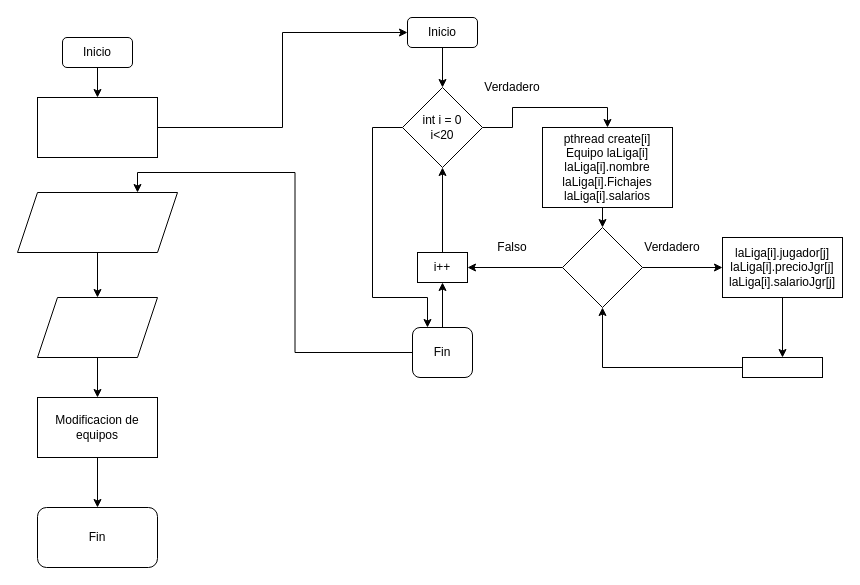
This 860x585 diagram has some shape labels left out. Each missing label, with the box of its shape:
Equipo laLiga[20]: (36, 96, 158, 158)
int j = 0 j < 20: (562, 226, 642, 308)
j++: (742, 356, 822, 378)
Mostrar equipos por hilos: (16, 192, 178, 252)
Mostrar menu: (36, 296, 158, 358)
